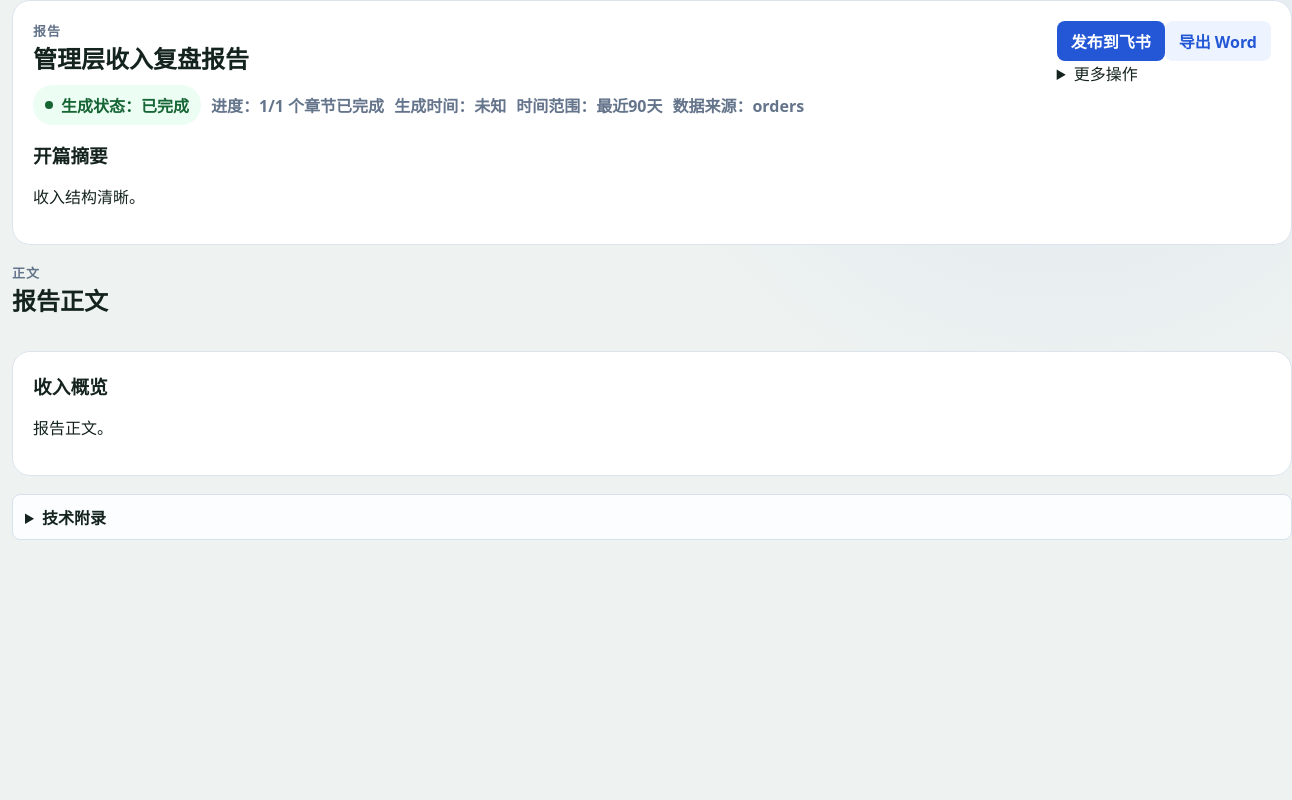
workspace product components › exports a report to Word and shows download warnings without internal paths
Click the button "导出 Word" at x=1218, y=41, box [1165,21,1271,61]
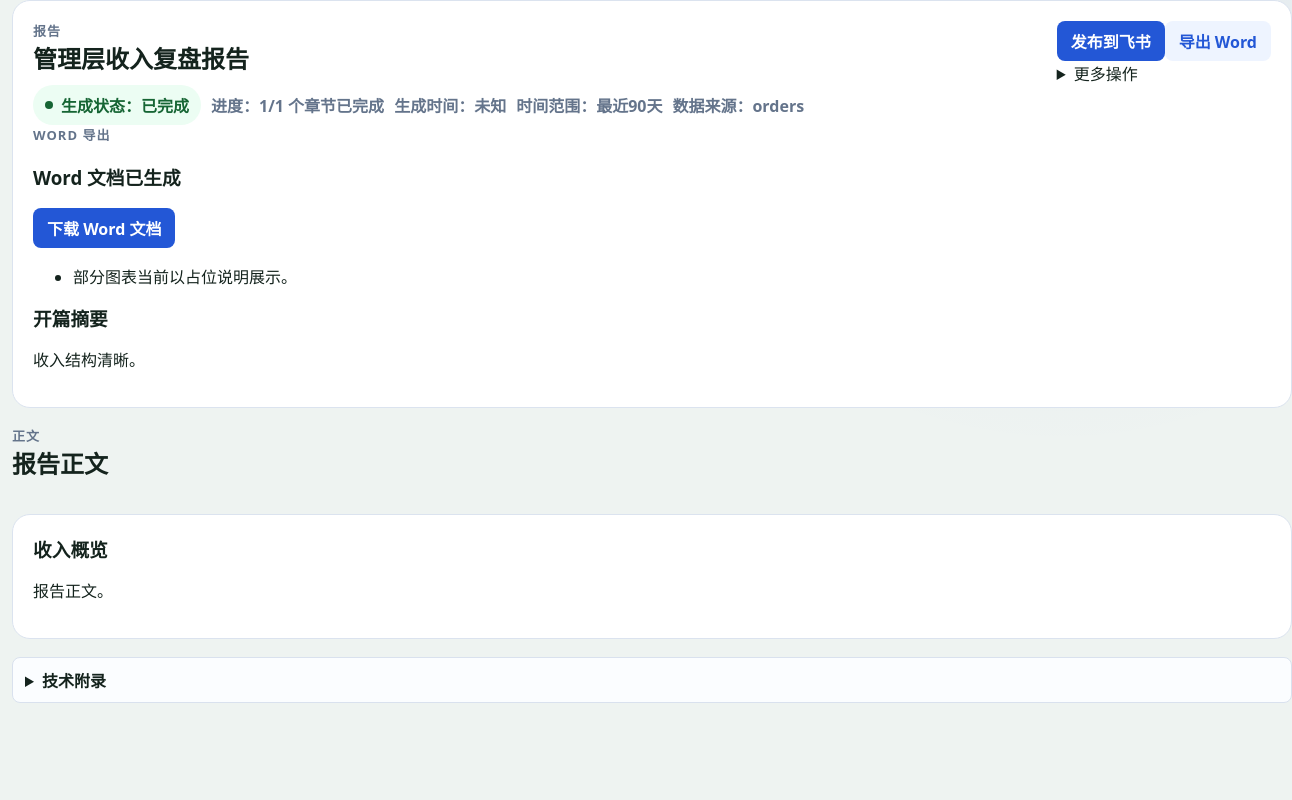
Now the list item "部分图表当前以占位说明展示。" is shown, box [73,266,297,288]
